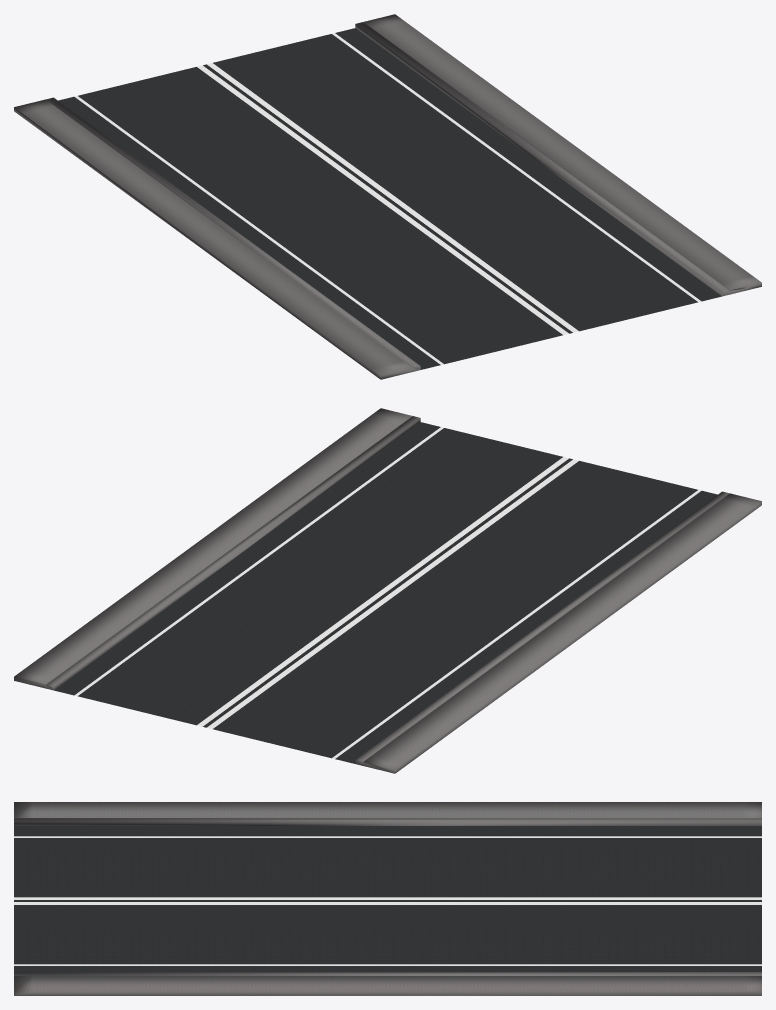
Rendered from road1.dae.
3 renders of one model, top to bottom at view 1: azimuth 30°, elevation 25°; view 2: azimuth 150°, elevation 25°; view 3: azimuth 270°, elevation 25°, orthographic.
Parts seen in each view (by area): view 1: Asphalt_New, Color_002, Color_E02, Color_000; view 2: Asphalt_New, Color_002, Color_E02, Color_000; view 3: Asphalt_New, Color_002, Color_E02, Color_000.
Boxes of the visible parts, <box> form: Asphalt_New: <box>58,28,721,369</box>; Color_002: <box>14,14,761,379</box>; Color_E02: <box>74,33,701,364</box>; Color_000: <box>197,65,568,335</box>; Asphalt_New: <box>54,422,717,763</box>; Color_002: <box>14,408,761,773</box>; Color_E02: <box>74,427,701,758</box>; Color_000: <box>207,459,578,729</box>; Asphalt_New: <box>14,826,761,971</box>; Color_002: <box>14,802,761,995</box>; Color_E02: <box>14,836,761,965</box>; Color_000: <box>14,897,761,899</box>.
Bounding box in the file's own units: 576 × 960 × 6.
4 materials, 4 textured.
